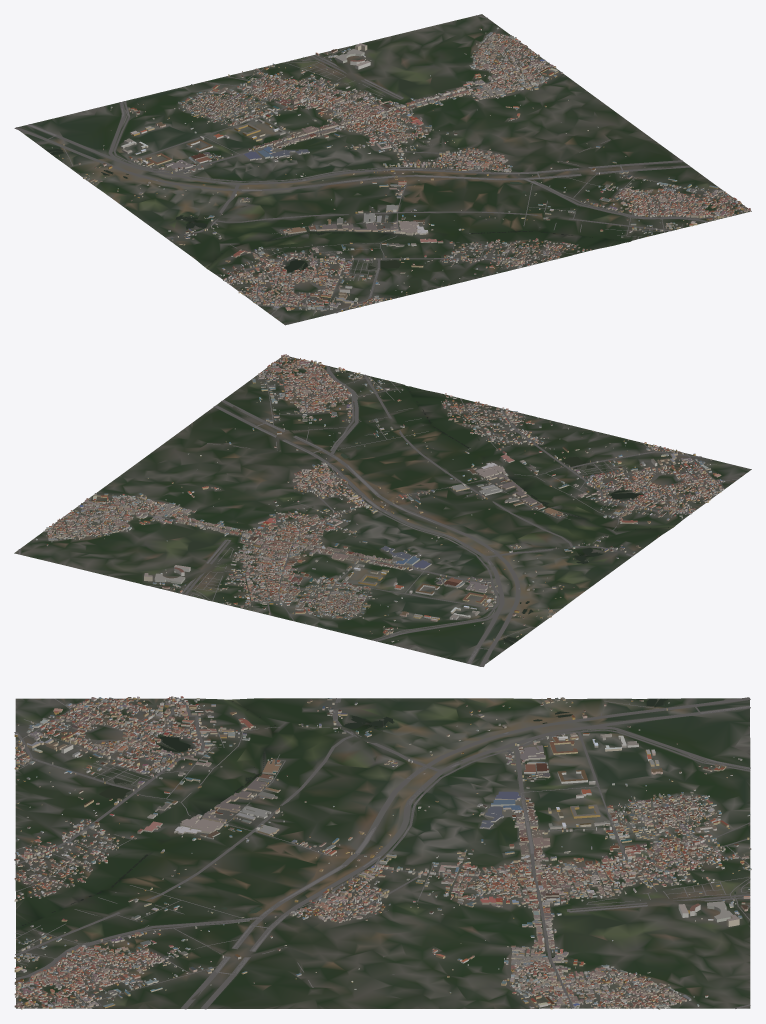
3 views of the same model, one above another, from view 1: azimuth 30°, elevation 25°; view 2: azimuth 150°, elevation 25°; view 3: azimuth 270°, elevation 25° (orthographic). The views are drawn at different scales.
Visible parts, largest first — view 1: ground, buildings, roads, water; view 2: ground, buildings, roads, water; view 3: ground, buildings, roads, water.
Boxes of the visible parts, x1,y1,x2,y2 form: ground: (18,14,751,325); buildings: (51,27,750,315); roads: (14,15,746,315); water: (46,55,623,272); ground: (14,356,751,666); buildings: (35,354,725,643); roads: (18,357,737,666); water: (164,388,668,644); ground: (15,698,750,1008); buildings: (14,696,751,1009); roads: (14,697,750,1009); water: (22,698,750,957).
Bounding box in the file's own units: 2819 × 33.21 × 2817.
